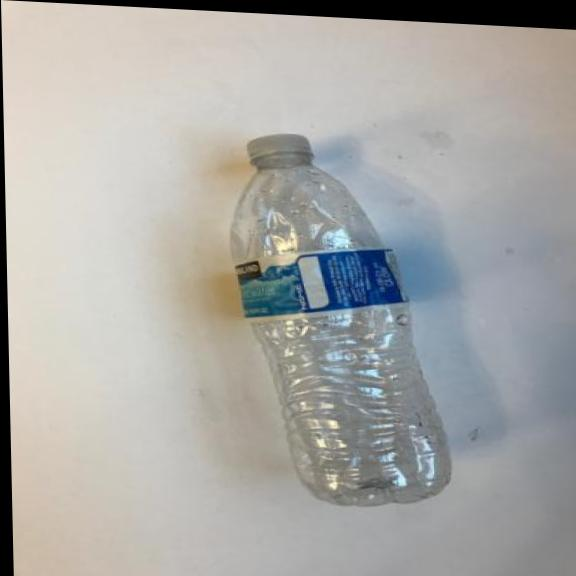Plastik: (214, 121, 466, 519)
